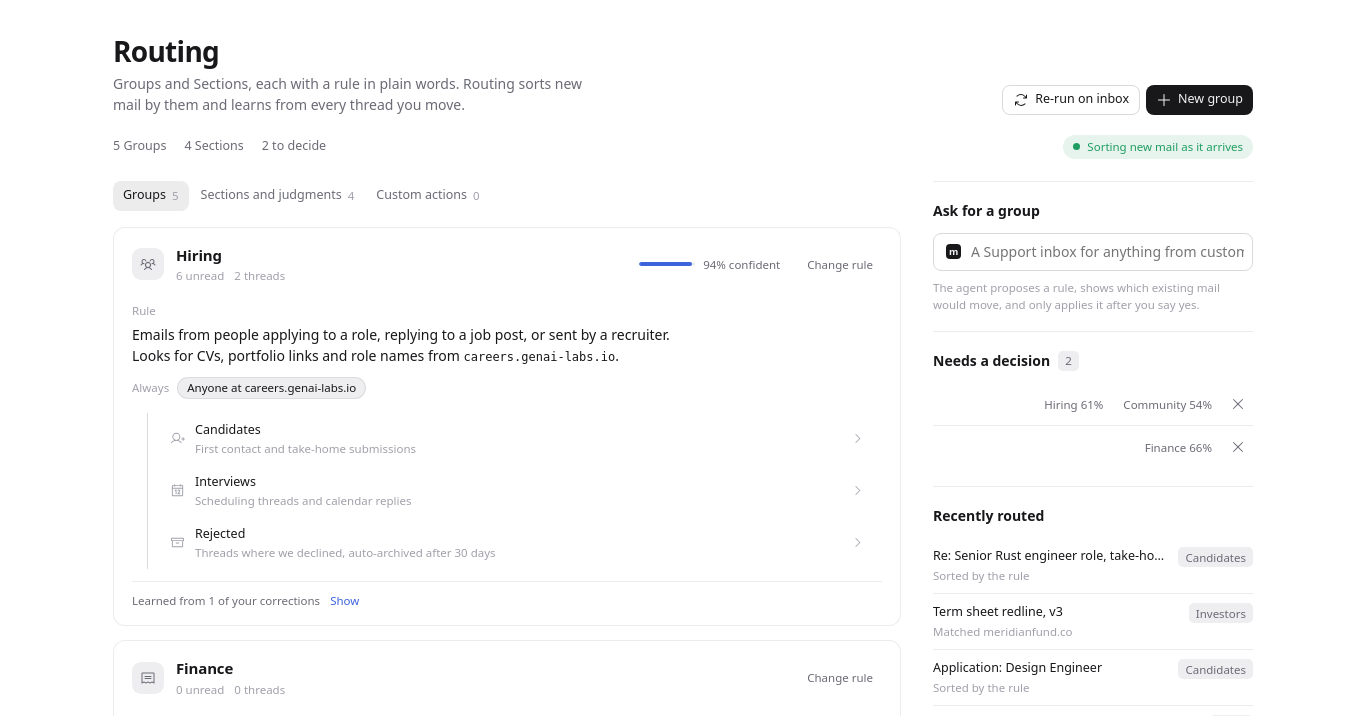
Test: Routing page › Re-run shows the preview first and applies only on the second click
Step 1. Click the button "Re-run on inbox" → (1071, 100), box [1002,85,1140,115]
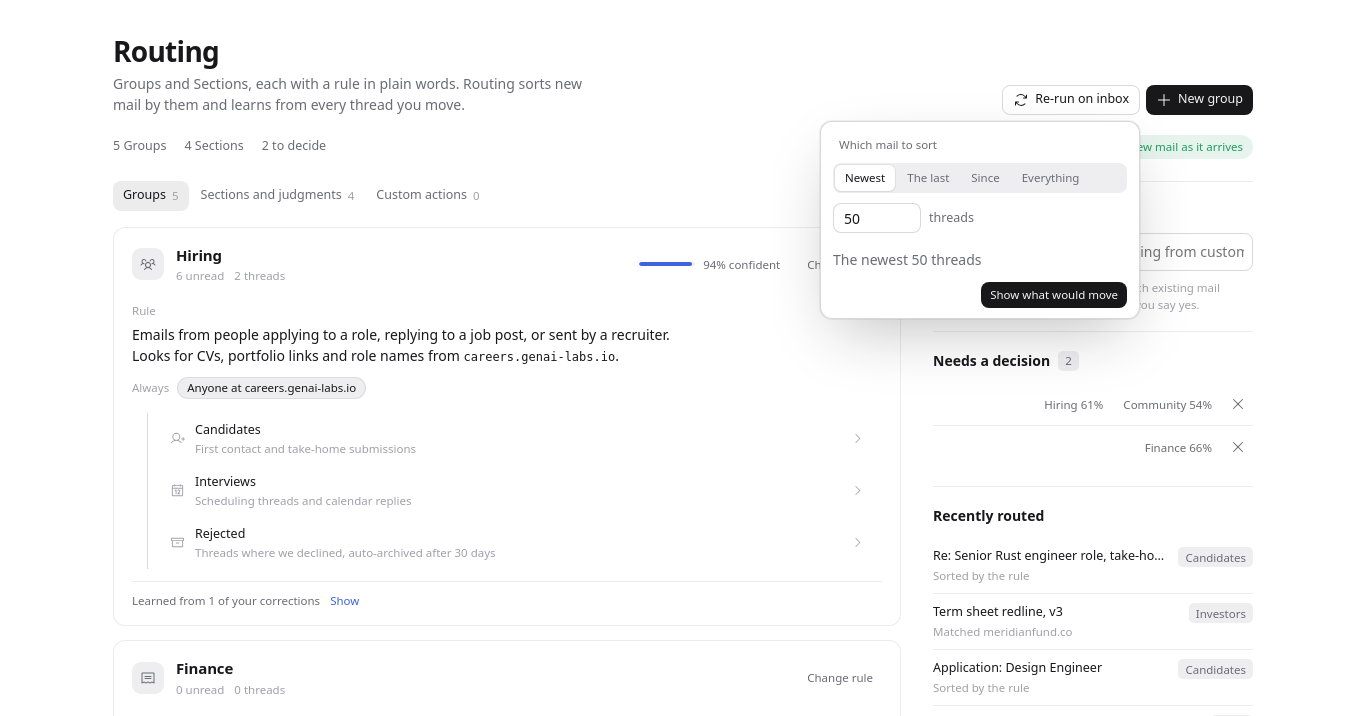
Step 2. Click the button "Show what would move" → (1054, 295), box [981,282,1127,308]
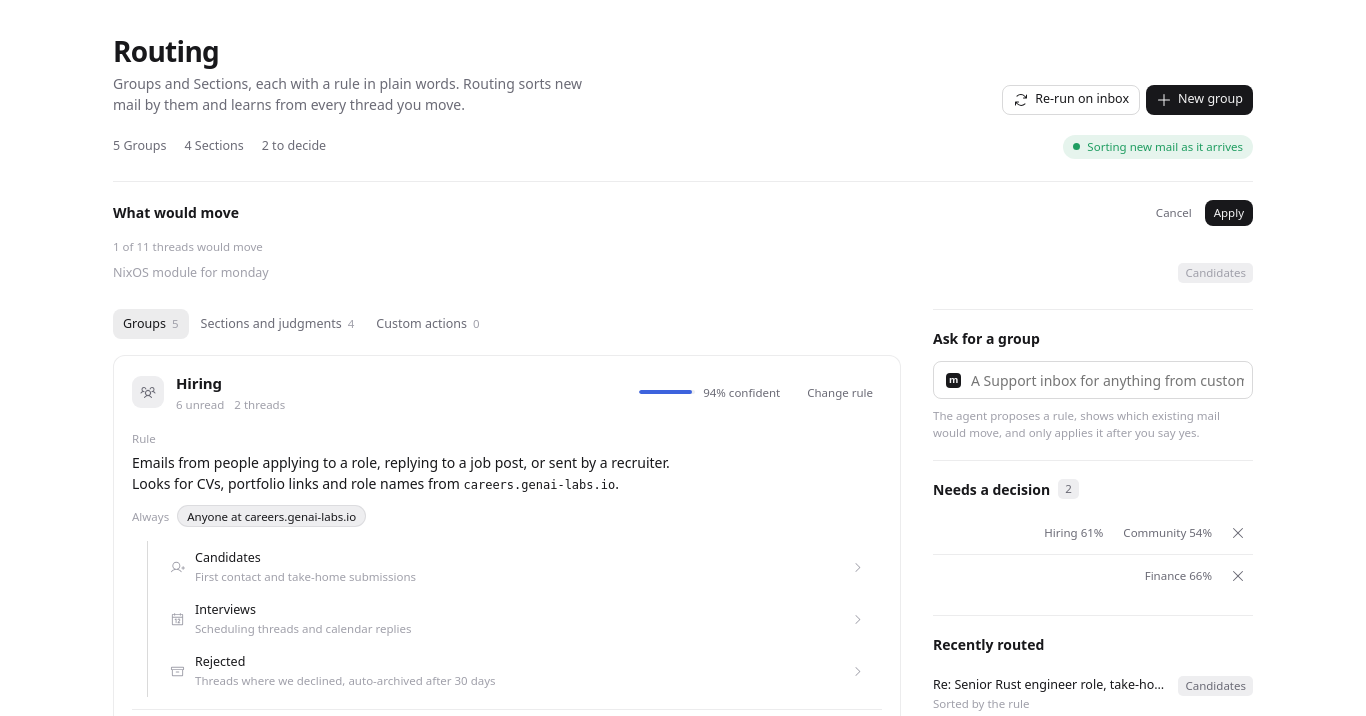
Check: the heading "What would move Cancel Apply" is shown, box [113,200,1253,226]
Check: the element with class "side-card" shows "1 of 11 threads would move", box [113,239,263,254]
Check: the 1st text with class "tag" reads "Candidates", box [1186,265,1246,280]
Step 3. Click the button "Apply" → (1229, 213), box [1205,200,1253,226]
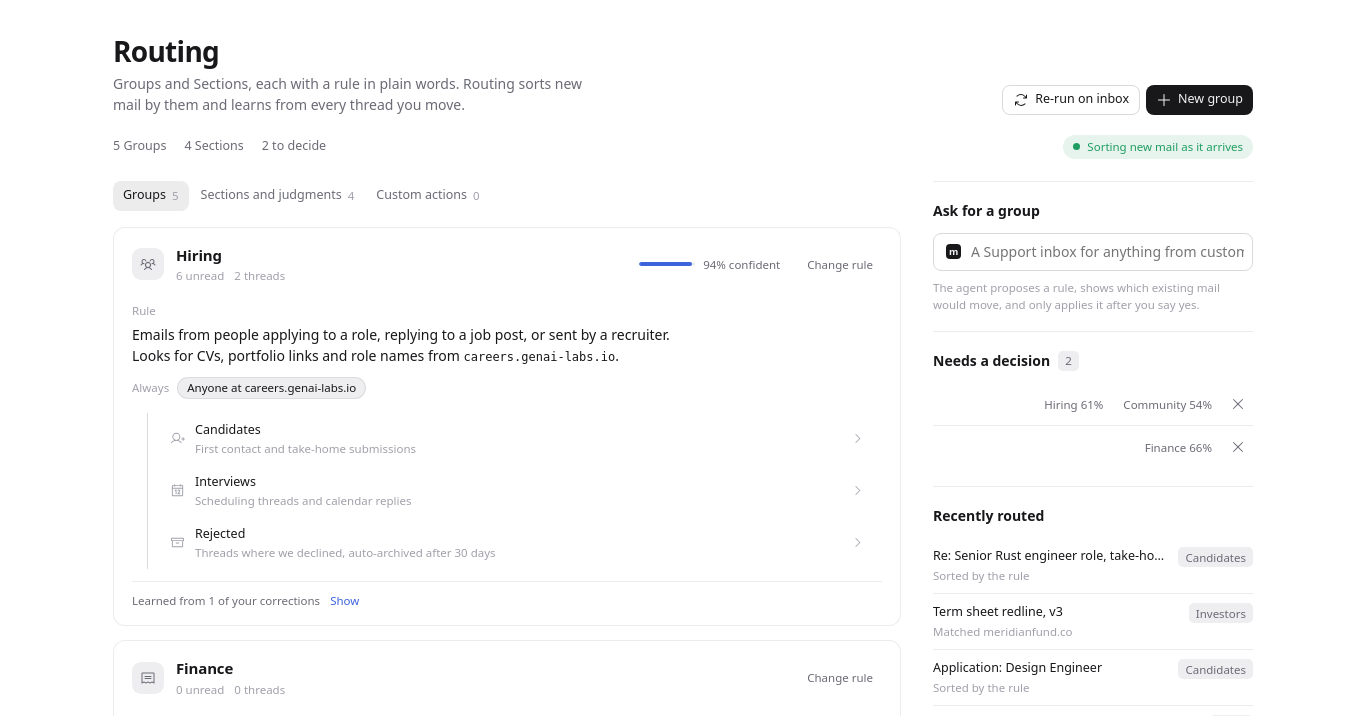
Check: the element with class "side-card" is gone
